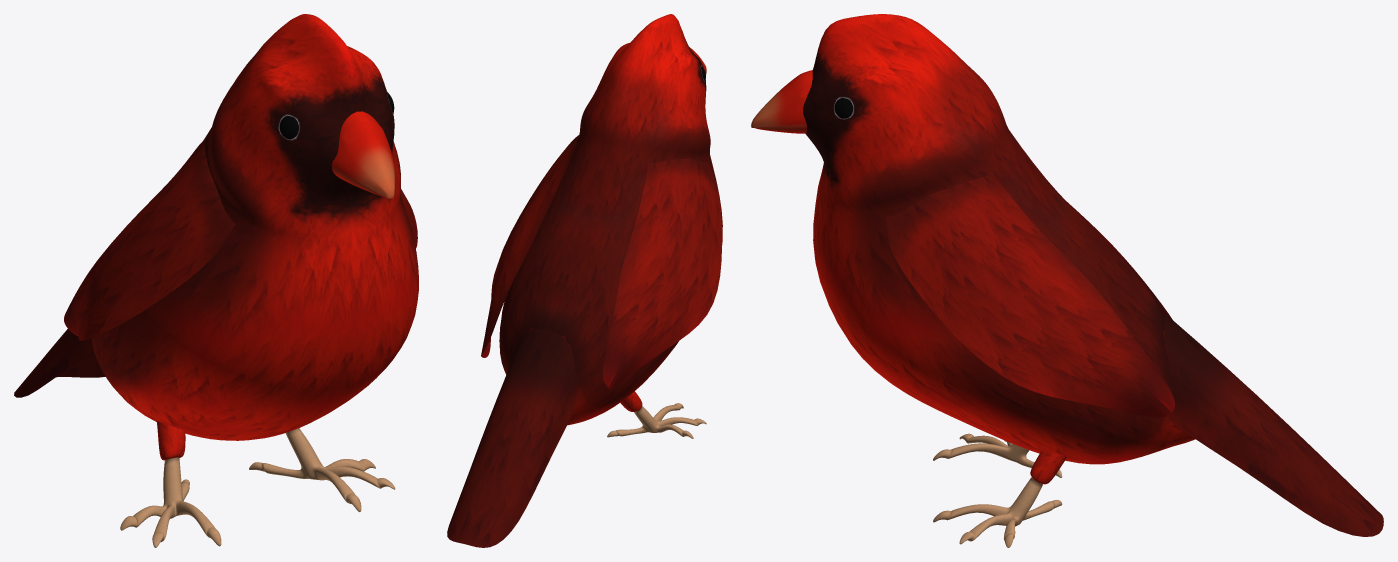
Rendered from Cardenal Rojo.glb.
3 renders of one model, left to right at view 1: azimuth 30°, elevation 25°; view 2: azimuth 150°, elevation 25°; view 3: azimuth 270°, elevation 25°, orthographic. The views are drawn at different scales.
Visible parts, largest first — view 1: Cardenal Rojo; view 2: Cardenal Rojo; view 3: Cardenal Rojo.
Part boxes in pixels (x1,y1,x2,y2): Cardenal Rojo: (14,14,418,547); Cardenal Rojo: (447,14,722,547); Cardenal Rojo: (751,14,1383,547).
Bounding box in the file's own units: 4.13 × 7.27 × 8.19.
Materials: 2 (2 with a texture image).
